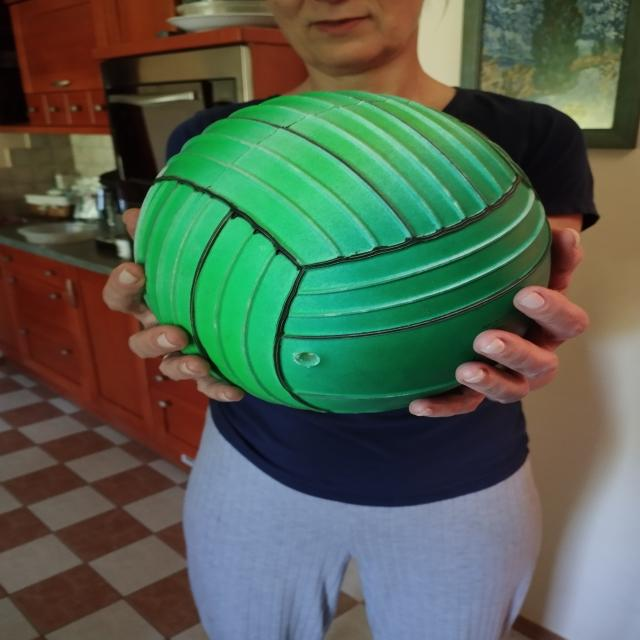zielona: (132, 90, 553, 416)
